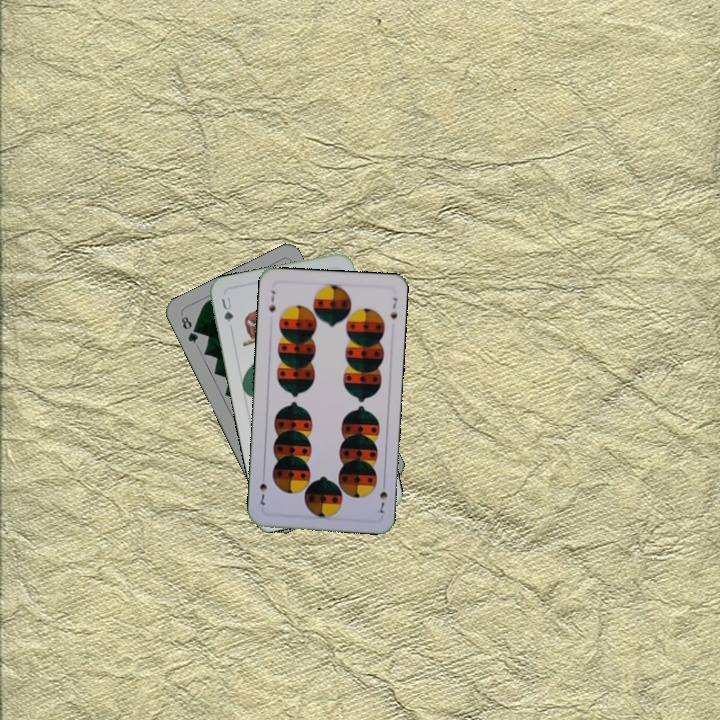G8: (177, 312, 201, 346)
GU: (217, 292, 236, 325)
S7: (373, 477, 390, 516), (265, 286, 278, 315)
